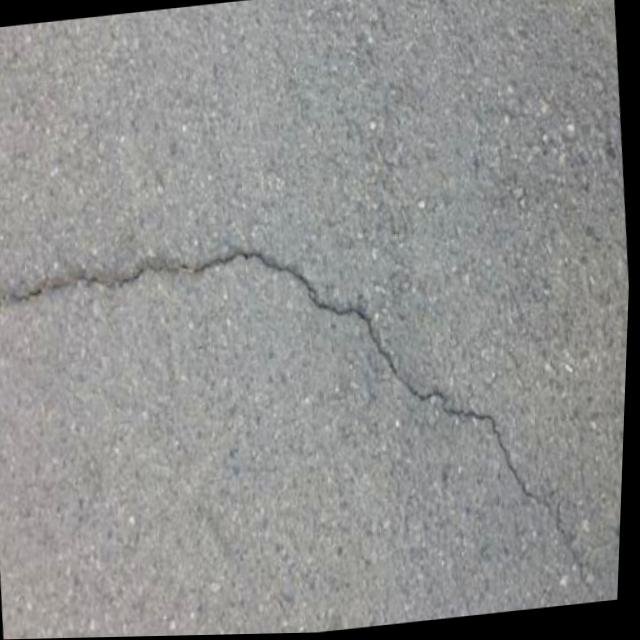Crack: (0, 203, 618, 640)
